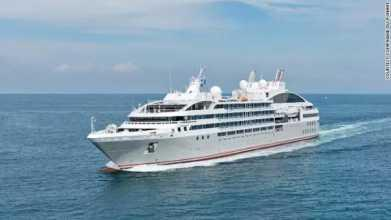youlun: (80, 68, 325, 177)
